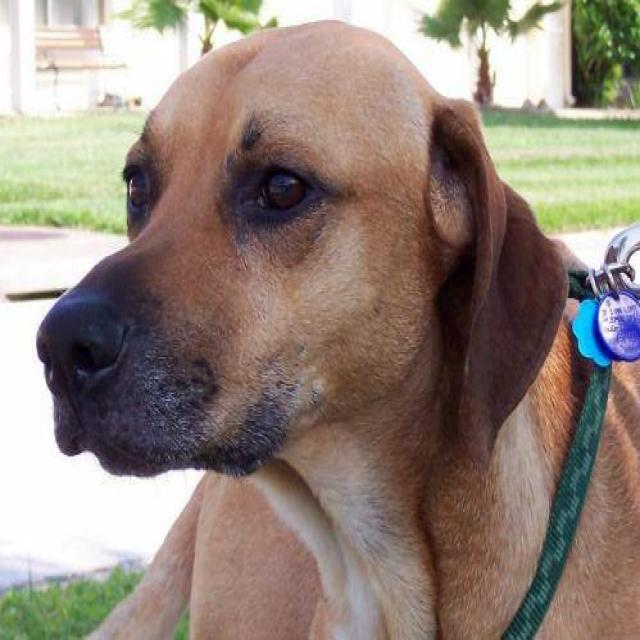Dog: (29, 16, 576, 546)
